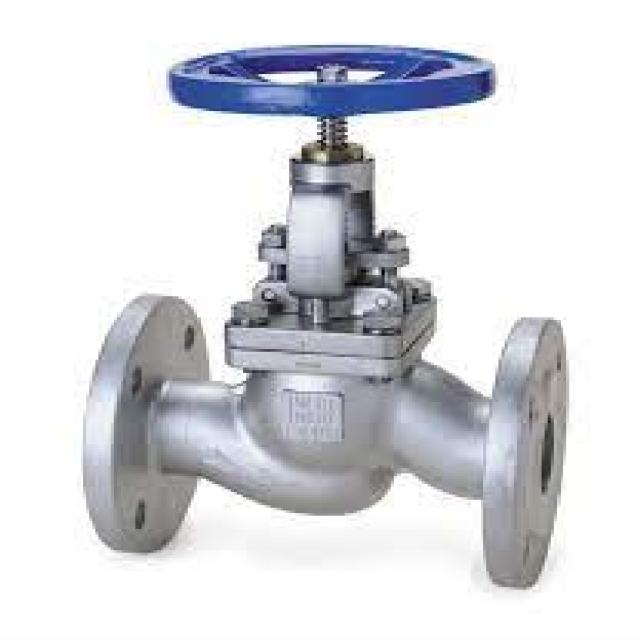Wheel Handle Valve Threaded: (166, 34, 527, 130)
